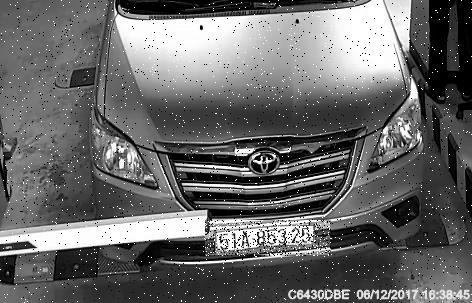License-plate: (207, 222, 333, 258)
